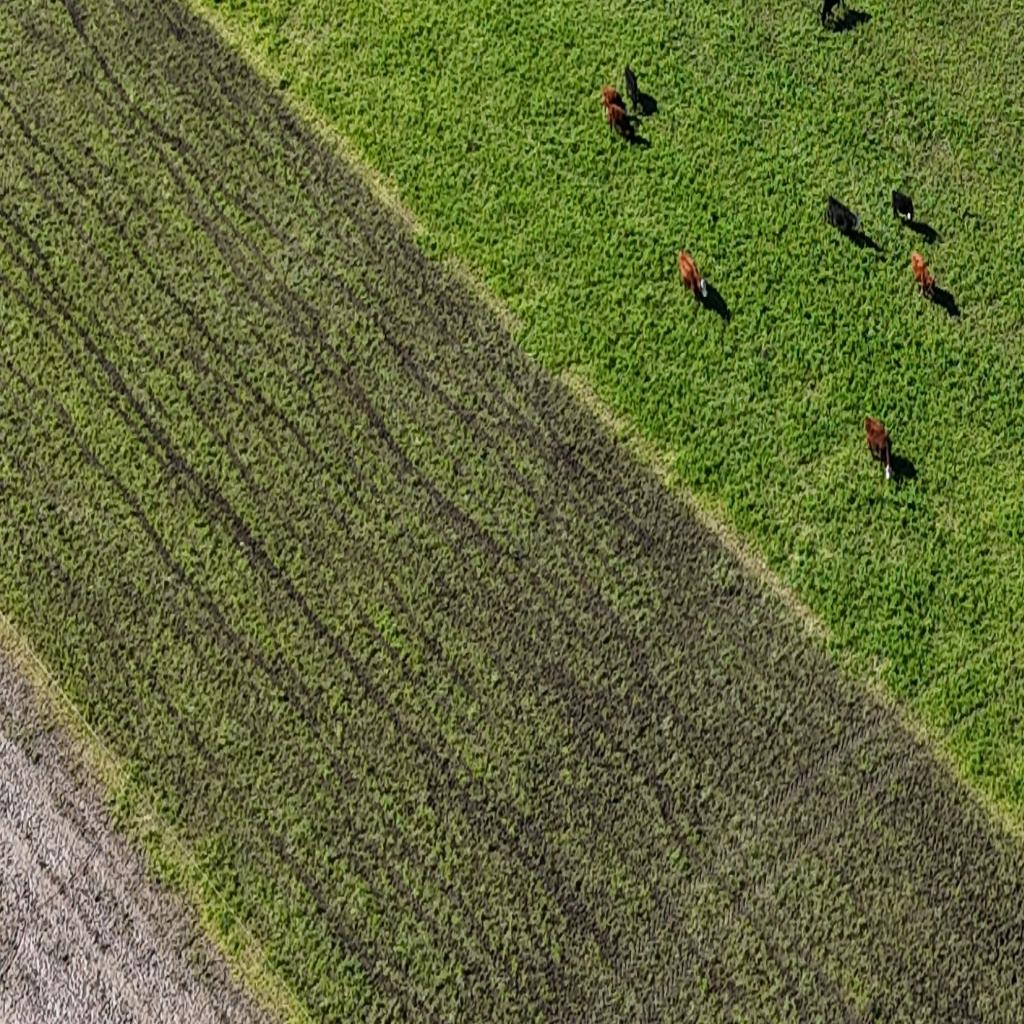cow: (863, 412, 895, 482), (675, 245, 708, 299), (907, 246, 936, 300), (825, 196, 861, 237), (608, 100, 636, 144), (892, 187, 915, 225), (624, 64, 640, 108), (602, 83, 624, 111), (820, 0, 842, 28)
